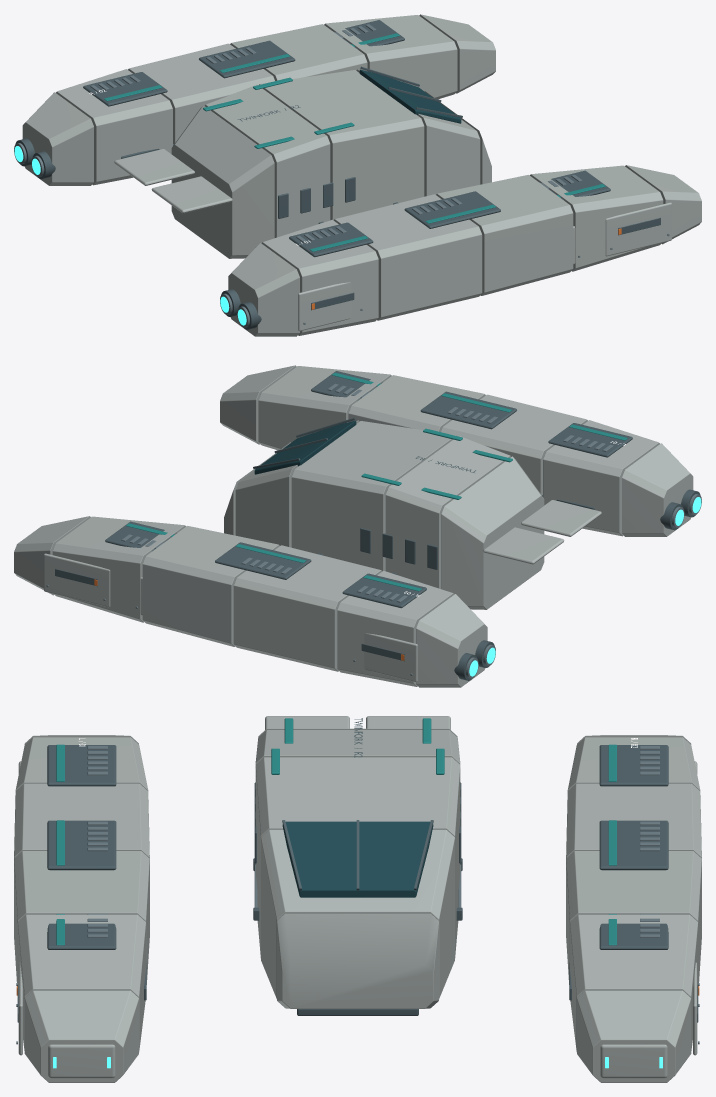
File: SM_Refit_Armor.fbx
3 renders of one model, top to bottom at view 1: azimuth 30°, elevation 25°; view 2: azimuth 150°, elevation 25°; view 3: azimuth 270°, elevation 25°, orthographic. The views are drawn at different scales.
Visible parts, largest first — view 1: SM_Refit_Armor; view 2: SM_Refit_Armor; view 3: SM_Refit_Armor.
Part boxes in pixels (box(x1,y1,x2,y2)): SM_Refit_Armor: box(14, 14, 701, 336); SM_Refit_Armor: box(14, 365, 701, 687); SM_Refit_Armor: box(14, 716, 701, 1082).
Size of the model in its own units: 1331 by 1296 by 321.
